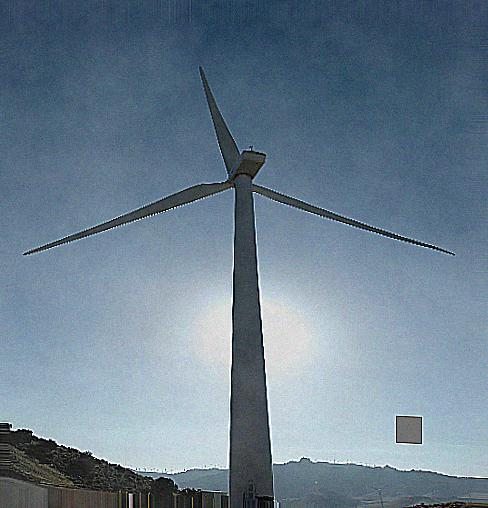wind turbine: (21, 63, 458, 492)
